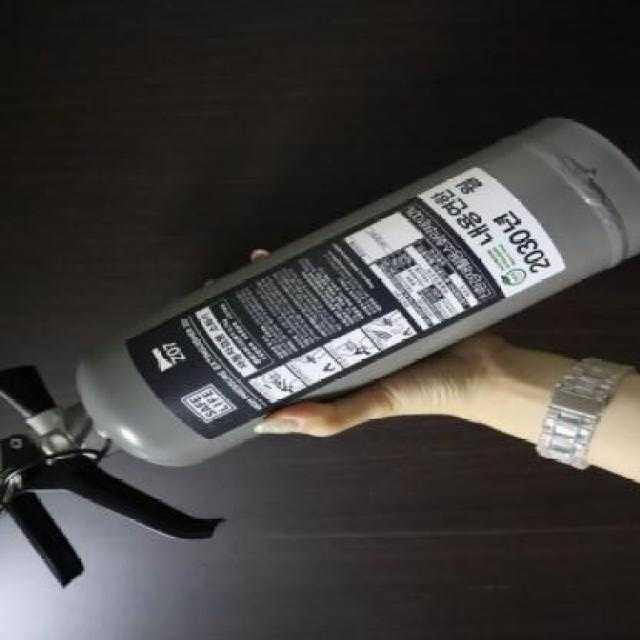fire extinguisher: (0, 116, 640, 587)
